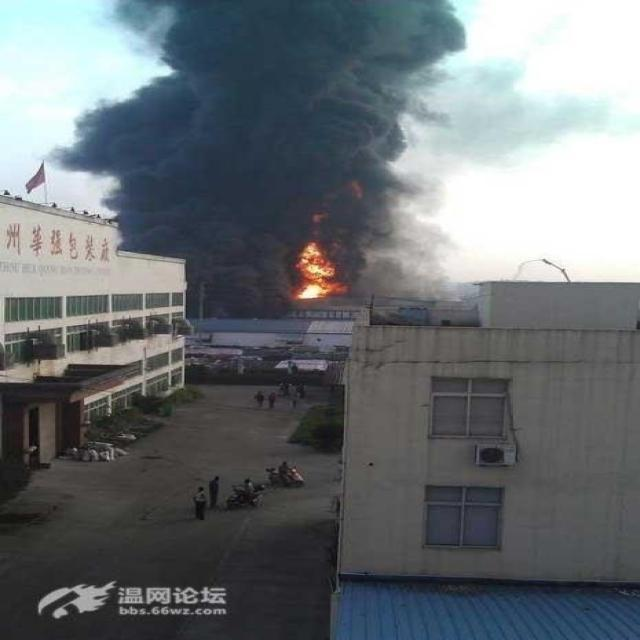Fire: (289, 239, 351, 300)
Smoke: (38, 1, 468, 238), (160, 244, 288, 312), (367, 244, 455, 307)
